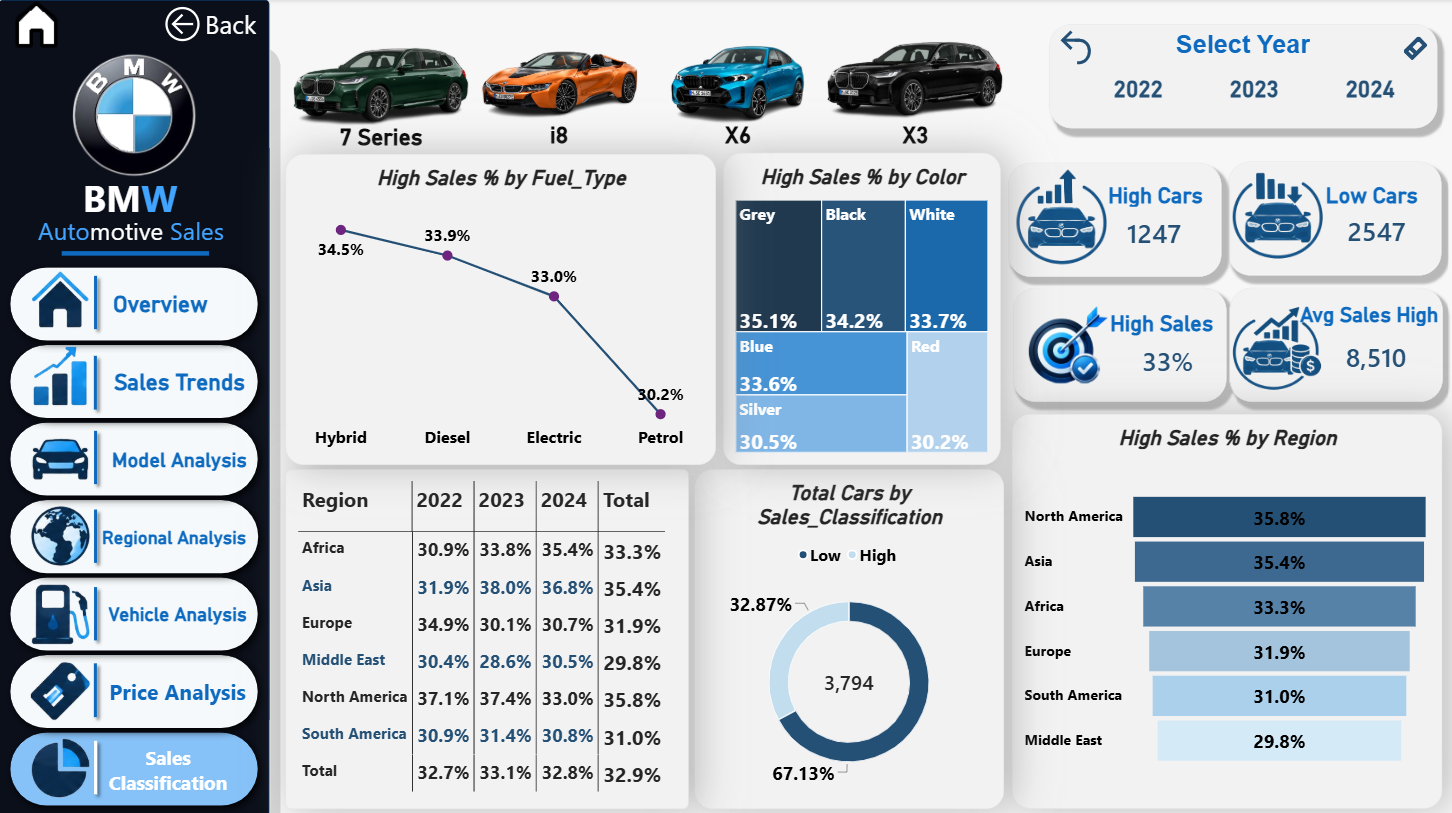

What the dashboard file says about the page in this screenshot:
{"tool":"powerbi","page":{"name":"Sales Classification","canvas":[1920,1080],"ordinal":7},"visuals":[{"type":"shape","box":[0,0,359.5,1080.4],"z":0},{"type":"actionButton","box":[214.3,1.8,185.2,63.6],"z":1000},{"type":"image","box":[0,0,101.7,65.4],"z":2000},{"type":"image","box":[0,39.9,359.5,227],"z":3000},{"type":"textbox","box":[112.6,229.1,148.9,79.9],"z":4000},{"type":"textbox","box":[52.7,283.6,254.2,52.7],"z":5000},{"type":"shape","box":[83.5,309,194.3,54.5],"z":6000},{"type":"shape","box":[0,951.2,358.9,128.8],"z":7000},{"type":"shape","box":[0,849.1,358.9,128.8],"z":8000},{"type":"shape","box":[0,746.8,358.9,128.8],"z":9000},{"type":"shape","box":[0,644.6,359.5,128.9],"z":10000},{"type":"shape","box":[0,542.2,358.9,128.8],"z":11000},{"type":"shape","box":[0,439.9,358.9,128.8],"z":12000},{"type":"shape","box":[-0.1,337.6,358.9,128.8],"z":13000},{"type":"image","box":[43.6,352.3,79.1,86.5],"z":14000},{"type":"shape","box":[112.6,355.9,33.1,88.3],"z":15000},{"type":"shape","box":[112.6,461.2,32.7,89],"z":16000},{"type":"image","box":[43.6,453.9,79.1,86.5],"z":17000},{"type":"shape","box":[112.6,561.1,33.1,88.3],"z":18000},{"type":"image","box":[43.6,564.7,79.1,86.5],"z":19000},{"type":"image","box":[43.6,664.6,79.1,86.5],"z":20000},{"type":"shape","box":[112.6,664.6,33.1,88.3],"z":21000},{"type":"image","box":[43.6,768.1,79.1,86.5],"z":22000},{"type":"shape","box":[112.6,766.2,33.1,88.3],"z":23000},{"type":"image","box":[43.6,869.7,79.1,86.5],"z":24000},{"type":"shape","box":[112.6,867.9,32.7,89],"z":25000},{"type":"image","box":[43.6,971.4,79.1,86.5],"z":26000},{"type":"shape","box":[112.6,969.6,33.1,88.3],"z":27000},{"type":"shape","box":[1387.2,32.7,512,138],"z":28000},{"type":"advancedSlicerVisual","fields":{"Values":["BMW_Car_Sales_Classification.Year"]},"box":[1392.7,69,501.1,101.7],"z":29000},{"type":"shape","box":[435.8,156.2,139.8,50.8],"z":30000},{"type":"shape","box":[708,154,65.4,50.8],"z":31000},{"type":"shape","box":[940.6,152.5,72.6,54.5],"z":32000},{"type":"shape","box":[1165.7,152.5,89,54.5],"z":33000},{"type":"shape","box":[1552.5,34.5,181.6,50.8],"z":34000},{"type":"actionButton","box":[1396.3,32.7,50.8,61.7],"z":35000},{"type":"image","box":[1084,32.7,254.2,136.2],"z":37000},{"type":"image","box":[849.2,41.8,254.2,136.2],"z":38000},{"type":"image","box":[614.3,39.9,254.2,136.2],"z":39000},{"type":"image","box":[379.5,40.6,254.2,136.2],"z":40000},{"type":"shape","box":[1623.3,215,281.4,150.7],"z":41000},{"type":"card","title":"Total Sales","fields":{"Values":["BMW_Car_Sales_Classification.Low Cars"]},"box":[1737.7,277.8,161.6,59.9],"z":43000},{"type":"shape","box":[1333.2,215.4,281.4,150.7],"z":44000},{"type":"image","box":[1334.6,216.1,145.3,134.4],"z":45000},{"type":"shape","box":[1447.1,232.4,161.6,50.8],"z":46000},{"type":"card","fields":{"Values":["BMW_Car_Sales_Classification.High Cars"]},"box":[1445.3,277.8,161.6,63.6],"z":47000},{"type":"image","box":[1625.1,216.1,130.7,134.4],"z":48000},{"type":"shape","box":[1338.8,381.4,281.4,150.7],"z":49000},{"type":"card","fields":{"Values":["BMW_Car_Sales_Classification.High Sales %"]},"box":[1454.4,448.5,177.9,58.1],"z":50000},{"type":"shape","box":[1454.4,403.1,161.6,50.8],"z":51000},{"type":"shape","box":[1624.8,381.5,281.4,150.7],"z":52000},{"type":"card","fields":{"Values":["BMW_Car_Sales_Classification.Avg Sales High"]},"box":[1737.7,439.4,159.8,67.2],"z":54000},{"type":"image","box":[1338.2,395.8,141.6,119.8],"z":56000},{"type":"shape","box":[1732.2,232.4,161.6,50.8],"z":56001},{"type":"shape","box":[1714.1,384.9,191.4,62.7],"z":56002},{"type":"image","box":[1619.6,403.1,136.2,114.4],"z":56003},{"type":"funnel","fields":{"Category":["BMW_Car_Sales_Classification.Region"],"Y":["BMW_Car_Sales_Classification.High Sales %"]},"box":[1338.2,548.4,568.3,521.1],"z":56010},{"type":"donutChart","fields":{"Category":["BMW_Car_Sales_Classification.Sales_Classification"],"Y":["BMW_Car_Sales_Classification.Total Cars"]},"box":[918.8,621,408.5,448.5],"z":56011},{"type":"pivotTable","fields":{"Columns":["BMW_Car_Sales_Classification.Year"],"Rows":["BMW_Car_Sales_Classification.Region"],"Values":["BMW_Car_Sales_Classification.High Sales %"]},"box":[379.5,621,532,448.5],"z":56012},{"type":"treemap","fields":{"Group":["BMW_Car_Sales_Classification.Color"],"Values":["BMW_Car_Sales_Classification.High Sales %"]},"box":[956.9,203.4,366.8,412.2],"z":56013},{"type":"slicer","fields":{"Values":["BMW_Car_Sales_Classification.Model"]},"box":[488.4,341.4,158,199.7],"z":56015},{"type":"actionButton","box":[1844.8,39.9,52.7,50.8],"z":56017},{"type":"lineChart","fields":{"Category":["BMW_Car_Sales_Classification.Fuel_Type"],"Y":["BMW_Car_Sales_Classification.High Sales %"]},"box":[379.5,205.2,568.3,410.4],"z":56018}]}

Visuals, with their boxes in screenshot pixels (x1, y1, x2, y2), scaled from the page's 1920x1080 canvas onto the 1452x813 screenshot:
shape: Rect(0, 0, 272, 812)
actionButton: Rect(162, 1, 302, 49)
image: Rect(0, 0, 77, 49)
image: Rect(0, 30, 272, 201)
textbox: Rect(85, 172, 198, 233)
textbox: Rect(40, 213, 232, 253)
shape: Rect(63, 233, 210, 274)
shape: Rect(0, 716, 271, 812)
shape: Rect(0, 639, 271, 736)
shape: Rect(0, 562, 271, 659)
shape: Rect(0, 485, 272, 582)
shape: Rect(0, 408, 271, 505)
shape: Rect(0, 331, 271, 428)
shape: Rect(0, 254, 271, 351)
image: Rect(33, 265, 93, 330)
shape: Rect(85, 268, 110, 334)
shape: Rect(85, 347, 110, 414)
image: Rect(33, 342, 93, 407)
shape: Rect(85, 422, 110, 489)
image: Rect(33, 425, 93, 490)
image: Rect(33, 500, 93, 565)
shape: Rect(85, 500, 110, 567)
image: Rect(33, 578, 93, 643)
shape: Rect(85, 577, 110, 643)
image: Rect(33, 655, 93, 720)
shape: Rect(85, 653, 110, 720)
image: Rect(33, 731, 93, 796)
shape: Rect(85, 730, 110, 796)
shape: Rect(1049, 25, 1436, 128)
advancedSlicerVisual - BMW_Car_Sales_Classification.Year: Rect(1053, 52, 1432, 128)
shape: Rect(330, 118, 435, 156)
shape: Rect(535, 116, 585, 154)
shape: Rect(711, 115, 766, 156)
shape: Rect(882, 115, 949, 156)
shape: Rect(1174, 26, 1311, 64)
actionButton: Rect(1056, 25, 1094, 71)
image: Rect(820, 25, 1012, 127)
image: Rect(642, 31, 834, 134)
image: Rect(465, 30, 657, 133)
image: Rect(287, 31, 479, 133)
shape: Rect(1228, 162, 1440, 275)
"Total Sales" card: Rect(1314, 209, 1436, 254)
shape: Rect(1008, 162, 1221, 276)
image: Rect(1009, 163, 1119, 264)
shape: Rect(1094, 175, 1217, 213)
card - BMW_Car_Sales_Classification.High Cars: Rect(1093, 209, 1215, 257)
image: Rect(1229, 163, 1328, 264)
shape: Rect(1012, 287, 1225, 401)
card - BMW_Car_Sales_Classification.High Sales %: Rect(1100, 338, 1234, 381)
shape: Rect(1100, 303, 1222, 342)
shape: Rect(1229, 287, 1442, 401)
card - BMW_Car_Sales_Classification.Avg Sales High: Rect(1314, 331, 1435, 381)
image: Rect(1012, 298, 1119, 388)
shape: Rect(1310, 175, 1432, 213)
shape: Rect(1296, 290, 1441, 337)
image: Rect(1225, 303, 1328, 390)
funnel - BMW_Car_Sales_Classification.Region x BMW_Car_Sales_Classification.High Sales %: Rect(1012, 413, 1442, 805)
donutChart - BMW_Car_Sales_Classification.Sales_Classification x BMW_Car_Sales_Classification.Total Cars: Rect(695, 467, 1004, 805)
pivotTable - BMW_Car_Sales_Classification.Year x BMW_Car_Sales_Classification.Region: Rect(287, 467, 689, 805)
treemap - BMW_Car_Sales_Classification.Color x BMW_Car_Sales_Classification.High Sales %: Rect(724, 153, 1001, 463)
slicer - BMW_Car_Sales_Classification.Model: Rect(369, 257, 489, 407)
actionButton: Rect(1395, 30, 1435, 68)
lineChart - BMW_Car_Sales_Classification.Fuel_Type x BMW_Car_Sales_Classification.High Sales %: Rect(287, 154, 717, 463)
